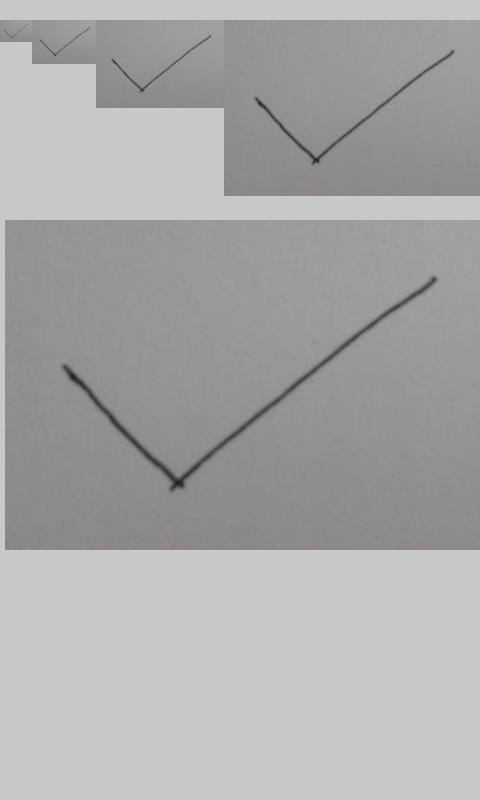check_box: (61, 278, 435, 492), (255, 51, 454, 165), (112, 35, 211, 92), (40, 28, 89, 56), (3, 24, 28, 38)
